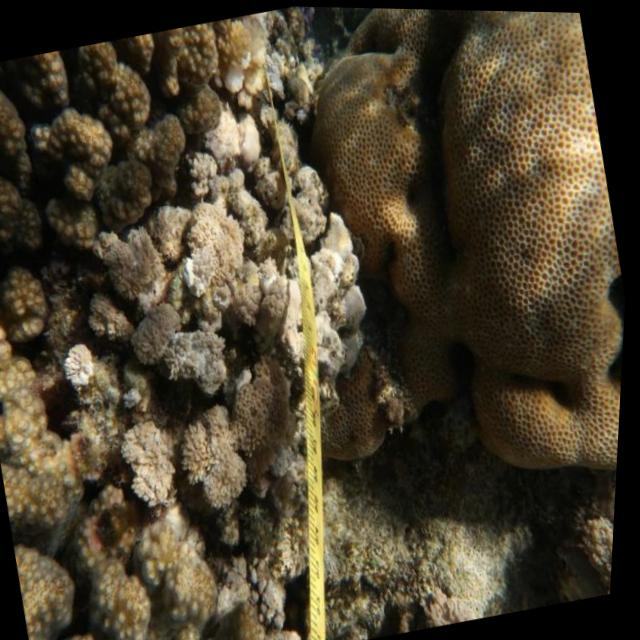Healthy Coral: (262, 5, 640, 482)
